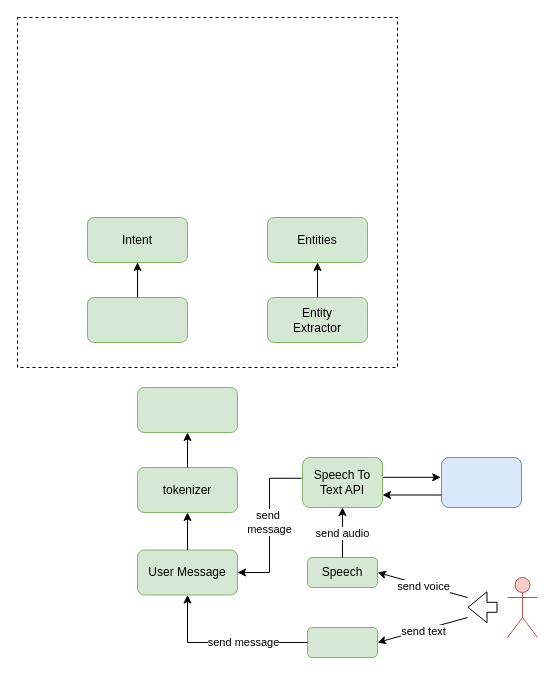
This 555x675 diagram has some shape labels left out. Each missing label, with the centre of its shape:
"Google Speech to Text API" goes at pixel 481 482.
"Intent Classifier" goes at pixel 137 319.
"Message" goes at pixel 342 642.
"text featurizer" goes at pixel 187 409.
